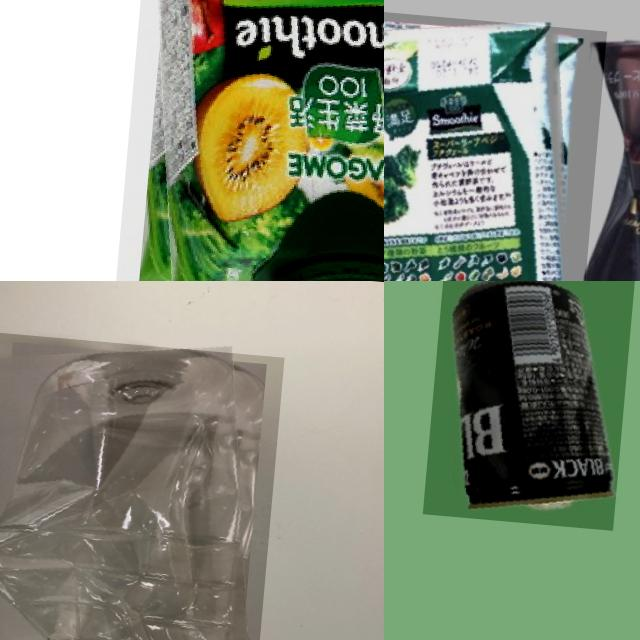Aluminium Foil: (109, 0, 384, 281), (384, 6, 606, 281)
Can: (422, 281, 634, 530), (571, 37, 640, 281)
Transparent Plastic Bottle: (0, 332, 284, 640)
